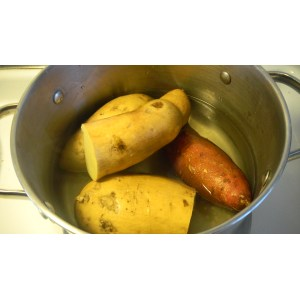boiled potatoes: (87, 180, 206, 230), (81, 100, 182, 157)
